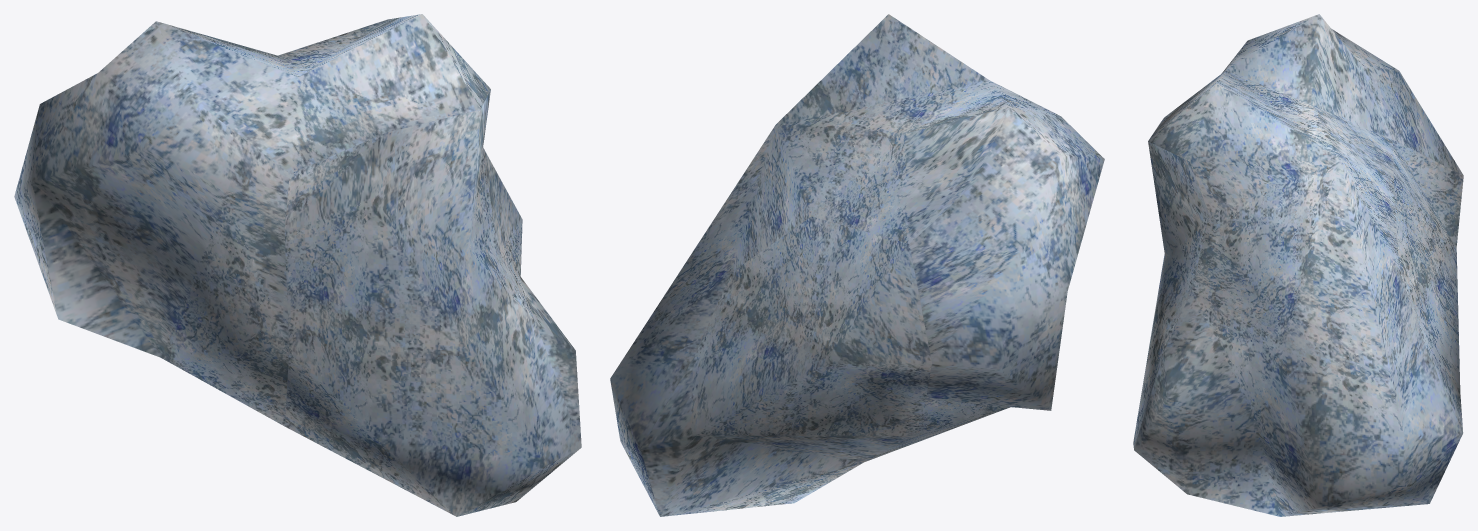
Rendered from asteroid_ice_large_s02_l3.fbx.
3 renders of one model, left to right at view 1: azimuth 30°, elevation 25°; view 2: azimuth 150°, elevation 25°; view 3: azimuth 270°, elevation 25°, orthographic. The views are drawn at different scales.
Visible parts, largest first — view 1: mesh_node; view 2: mesh_node; view 3: mesh_node.
Part boxes in pixels (x1,y1,x2,y2): mesh_node: (14,14,581,516); mesh_node: (610,14,1104,516); mesh_node: (1133,14,1463,516).
Size of the model in its own units: 111 by 116 by 85.07.
